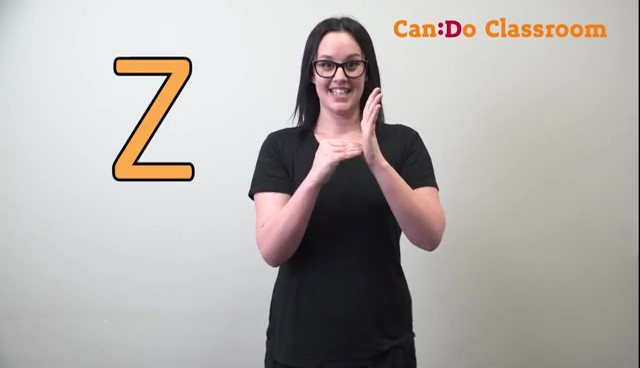Z: (302, 80, 398, 188)
